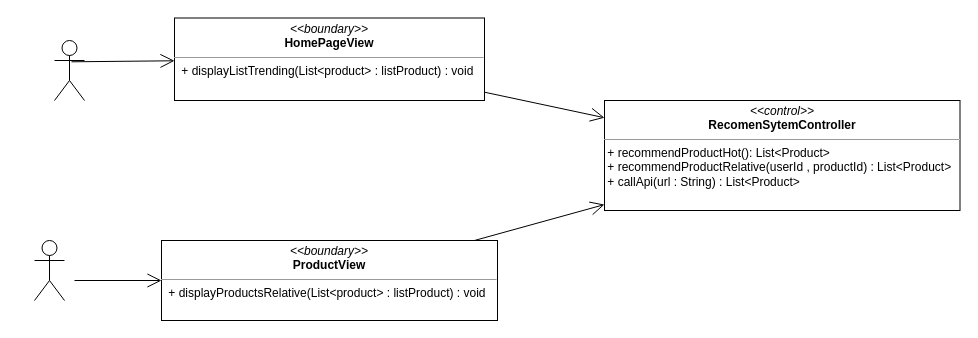
The diagram is 978 pixels wide and 338 high, and some of its shapes have lost their labels. Here are the shapes that lost their labels. From the top down, the box of each, then its label:
(54, 40, 84, 100): Khách
(34, 240, 64, 300): Người dùng
